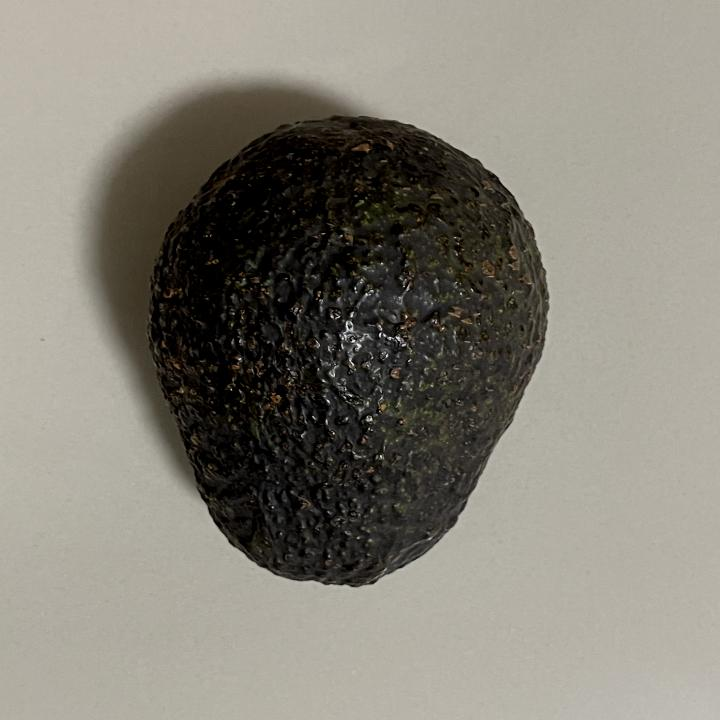Level2: (140, 109, 556, 596)
